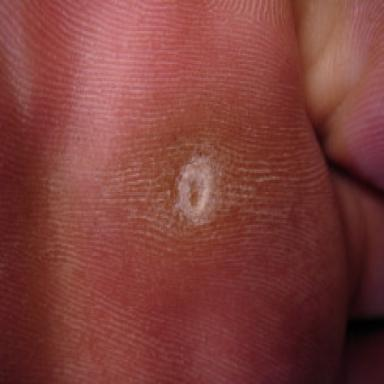eczema: (112, 136, 265, 237)
